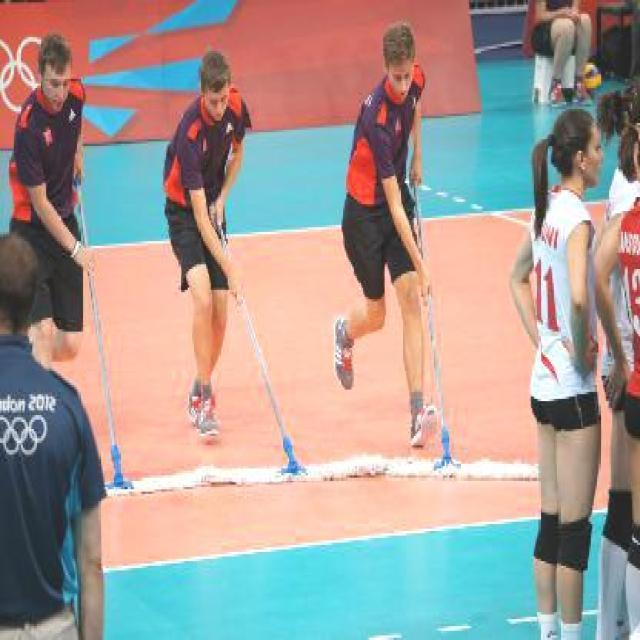volleyball: (582, 65, 604, 96)
